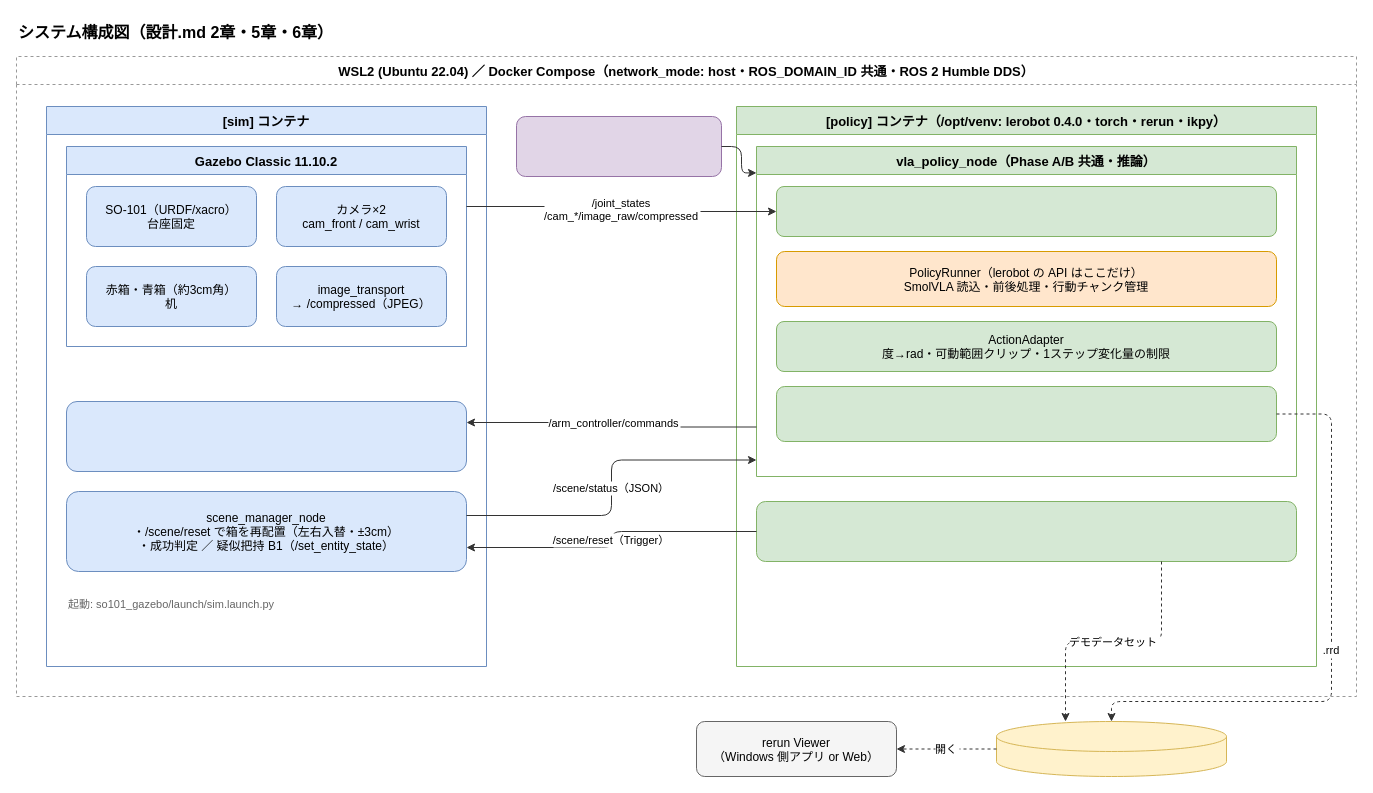
This 1373x793 diagram has some shape labels left out. The shapes that lost their labels are listed below. From the top down, each one's centre as x and y in pixels, then its label:
At point 619,146: "人（ターミナル） /vla/instruction で指示文を送る （実行中も切替可）".
At point 1026,211: "ObsAdapter ROS メッセージ → モデル入力（JPEG デコード・rad→度）".
At point 1026,414: "RerunLogger ＋ topic_recorder.Recorder モデル入力・予測チャンク・推論時間・全トピック → .rrd".
At point 266,436: "ros2_control + gazebo_ros2_control JointGroupPositionController （6関節をまとめて位置指令）".
At point 1026,531: "demo_collector.collect（Phase B） ikpy で軌道生成 → 観測と行動を LeRobotDataset へ".
At point 1111,748: "outputs/（git 管理外） rrd/・datasets/・train/".
